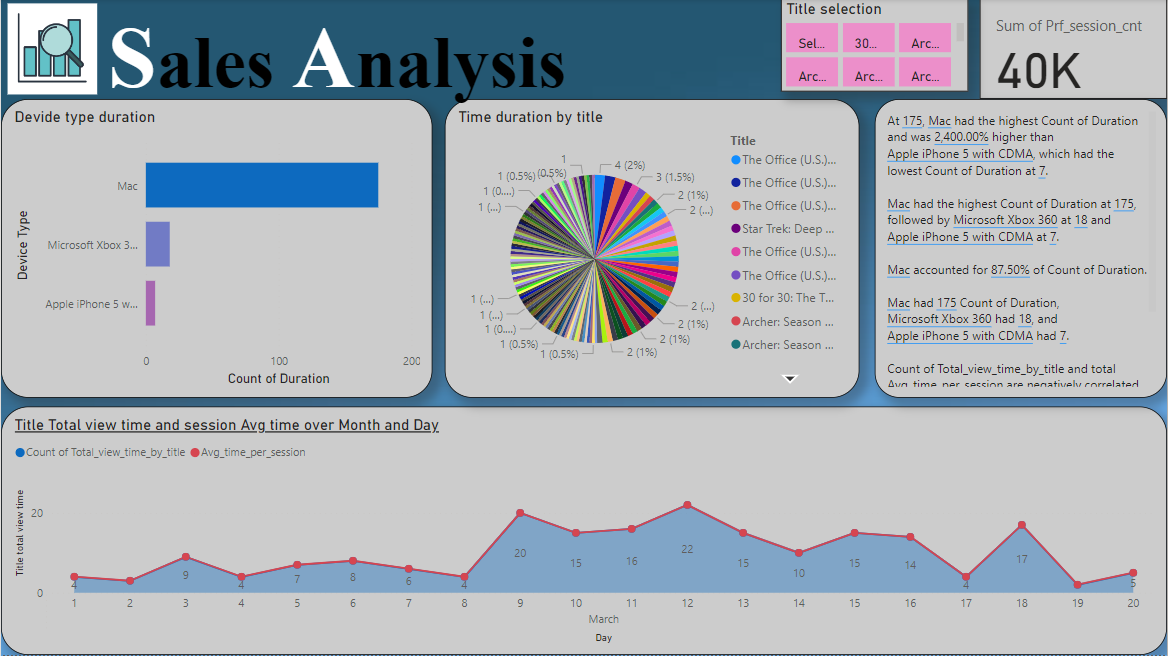

What the dashboard file says about the page in this screenshot:
{"tool":"powerbi","page":{"name":"Page 1","canvas":[1280,720],"ordinal":0},"visuals":[{"type":"clusteredBarChart","title":"Devide type duration","fields":{"Category":["ViewingActivity-sample.Device Type"],"Y":["CountNonNull(ViewingActivity-sample.Duration)"]},"box":[0,109.8,473.4,328],"z":0},{"type":"stackedAreaChart","title":"Title Total view time and session Avg time over Month and Day","fields":{"Y":["CountNonNull(ViewingActivity-sample.Total_view_time_by_title)","ViewingActivity-sample.Avg_time_per_session"],"Category":["ViewingActivity-sample.Start Time.Variation.Date Hierarchy.Month","ViewingActivity-sample.Start Time.Variation.Date Hierarchy.Day"]},"box":[0,447.3,1280.3,273.1],"z":1},{"type":"cardVisual","title":"Session Count","fields":{"Data":["Sum(ViewingActivity-sample.Count_of_session_by_profile)"]},"box":[1074.4,0,205.8,109.8],"z":2},{"type":"pieChart","title":"Time duration by title","fields":{"Category":["ViewingActivity-sample.Title"],"Y":["CountNonNull(ViewingActivity-sample.Duration)"]},"box":[487.1,109.8,455.6,328],"z":3},{"type":"advancedSlicerVisual","title":"Title selection","fields":{"Values":["ViewingActivity-sample.Title"]},"box":[856.3,0,205.8,101.5],"z":4},{"type":"textbox","box":[959.2,109.8,321.1,328],"z":5},{"type":"image","box":[0,0,112.5,109.8],"z":6},{"type":"textbox","box":[112.5,4.1,708.1,126.2],"z":7}]}

Visuals, with their boxes in screenshot pixels (x1, y1, x2, y2), scaled from the page's 1280x720 canvas onto the 1168x656 screenshot:
"Devide type duration" clusteredBarChart: bbox=(0, 100, 432, 399)
"Title Total view time and session Avg time over Month and Day" stackedAreaChart: bbox=(0, 408, 1167, 655)
"Session Count" cardVisual: bbox=(980, 0, 1167, 100)
"Time duration by title" pieChart: bbox=(444, 100, 860, 399)
"Title selection" advancedSlicerVisual: bbox=(781, 0, 969, 92)
textbox: bbox=(875, 100, 1167, 399)
image: bbox=(0, 0, 103, 100)
textbox: bbox=(103, 4, 749, 119)
